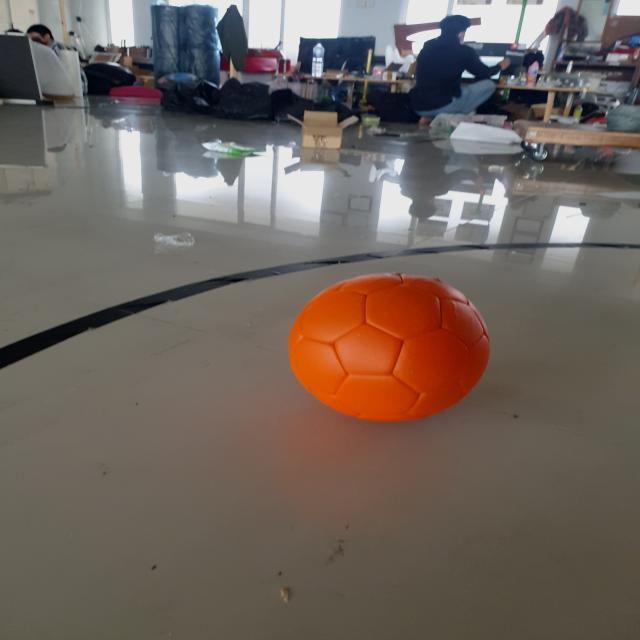bola: (280, 264, 498, 429)
